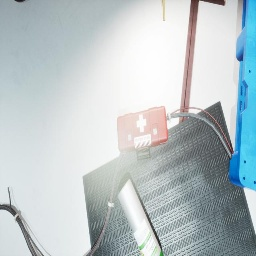0: (118, 179, 164, 256)
FirstAidBox ,: (117, 105, 168, 161)
